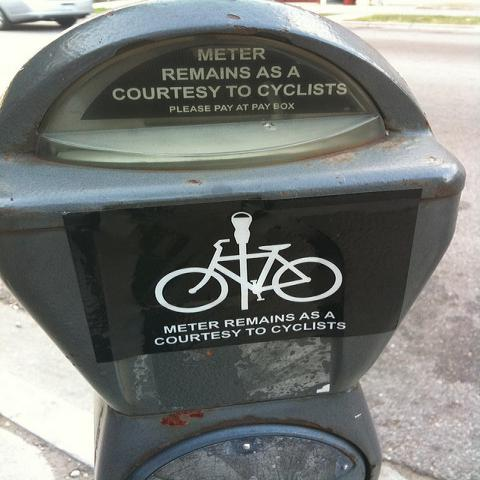car: (0, 2, 92, 30)
